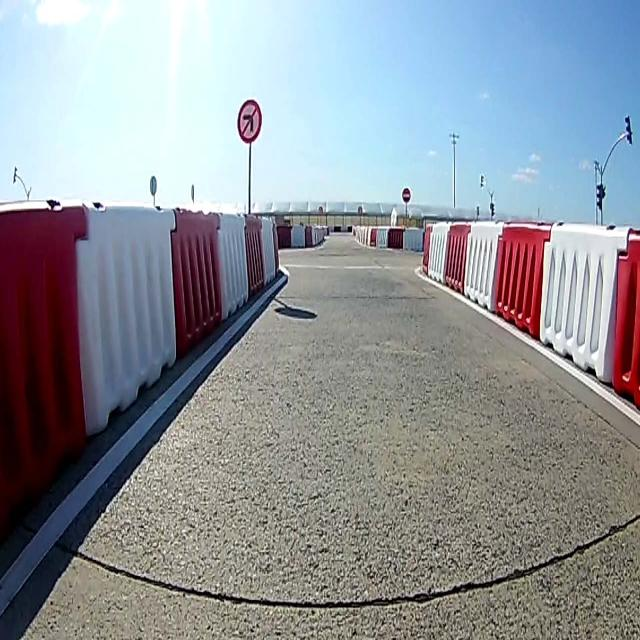girisyok: (402, 188, 411, 204)
soladonulmez: (237, 99, 262, 145)
